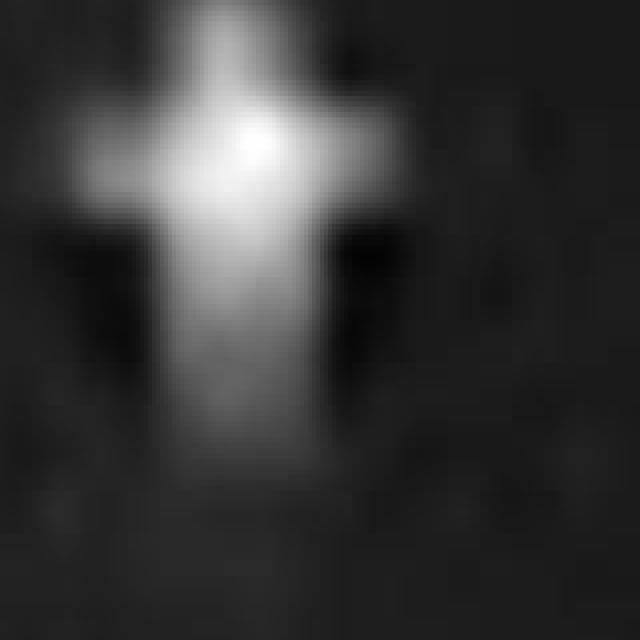person: (97, 1, 357, 454)
